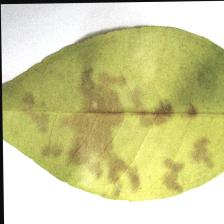black spot: (32, 69, 180, 177)
